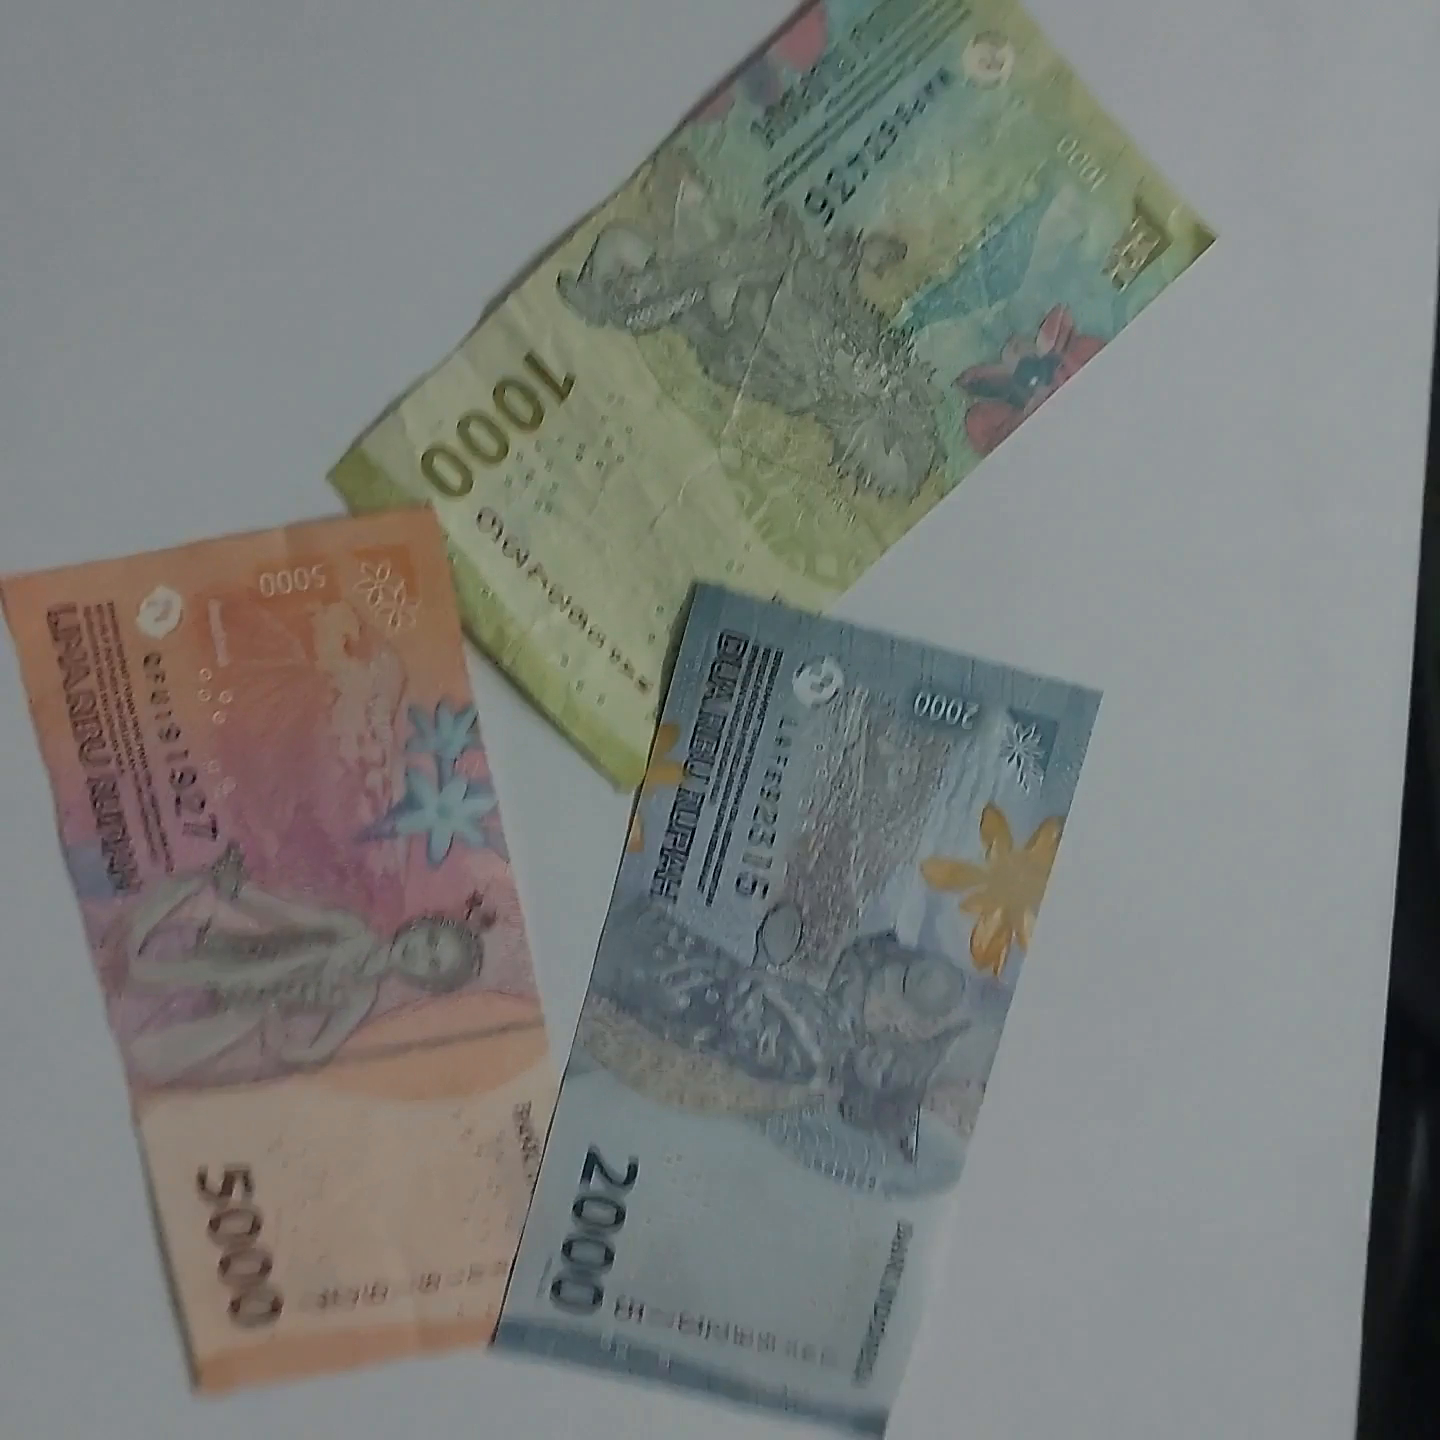1k: (269, 0, 1352, 699)
2k: (489, 626, 1183, 1440)
5k: (0, 489, 568, 1383)
